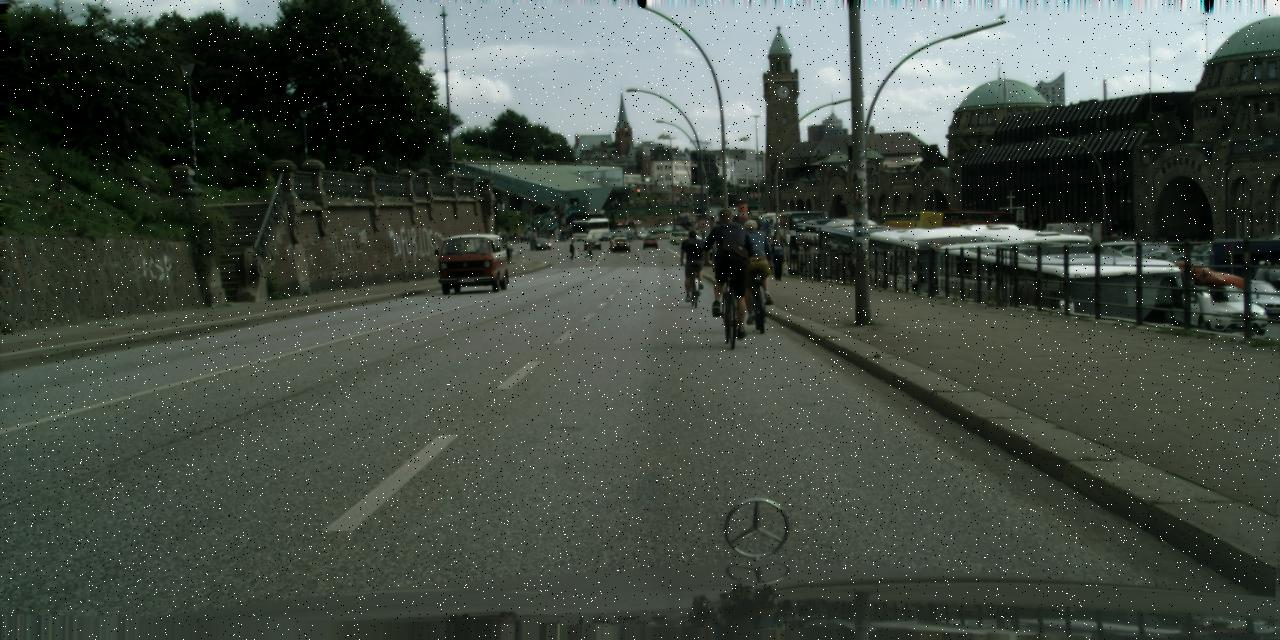ped: (704, 208, 751, 323), (736, 219, 772, 310), (681, 229, 706, 293), (768, 236, 786, 280), (567, 240, 575, 260), (1192, 237, 1200, 254), (585, 242, 591, 258), (1204, 237, 1210, 250), (1128, 235, 1134, 248), (1108, 235, 1113, 248), (1157, 235, 1162, 248), (1135, 236, 1140, 248), (1162, 235, 1167, 247), (556, 229, 561, 240), (1121, 234, 1125, 247), (1150, 235, 1154, 248), (536, 224, 540, 236), (516, 230, 520, 242), (512, 231, 516, 242), (532, 230, 536, 238), (522, 232, 525, 242), (525, 232, 528, 241), (563, 231, 566, 240), (551, 210, 554, 218), (509, 233, 512, 241), (502, 233, 505, 241), (562, 232, 565, 240), (520, 231, 522, 241), (1148, 237, 1150, 247), (737, 192, 747, 194), (554, 204, 556, 212), (561, 233, 563, 241), (500, 232, 502, 239), (636, 197, 638, 203), (610, 198, 612, 204), (557, 204, 559, 210), (540, 222, 542, 228), (646, 197, 648, 202), (614, 198, 616, 203), (729, 192, 733, 194), (499, 230, 500, 236), (749, 192, 750, 196), (760, 192, 761, 196), (763, 192, 764, 195), (754, 192, 754, 195), (656, 197, 656, 202), (630, 198, 630, 203)
